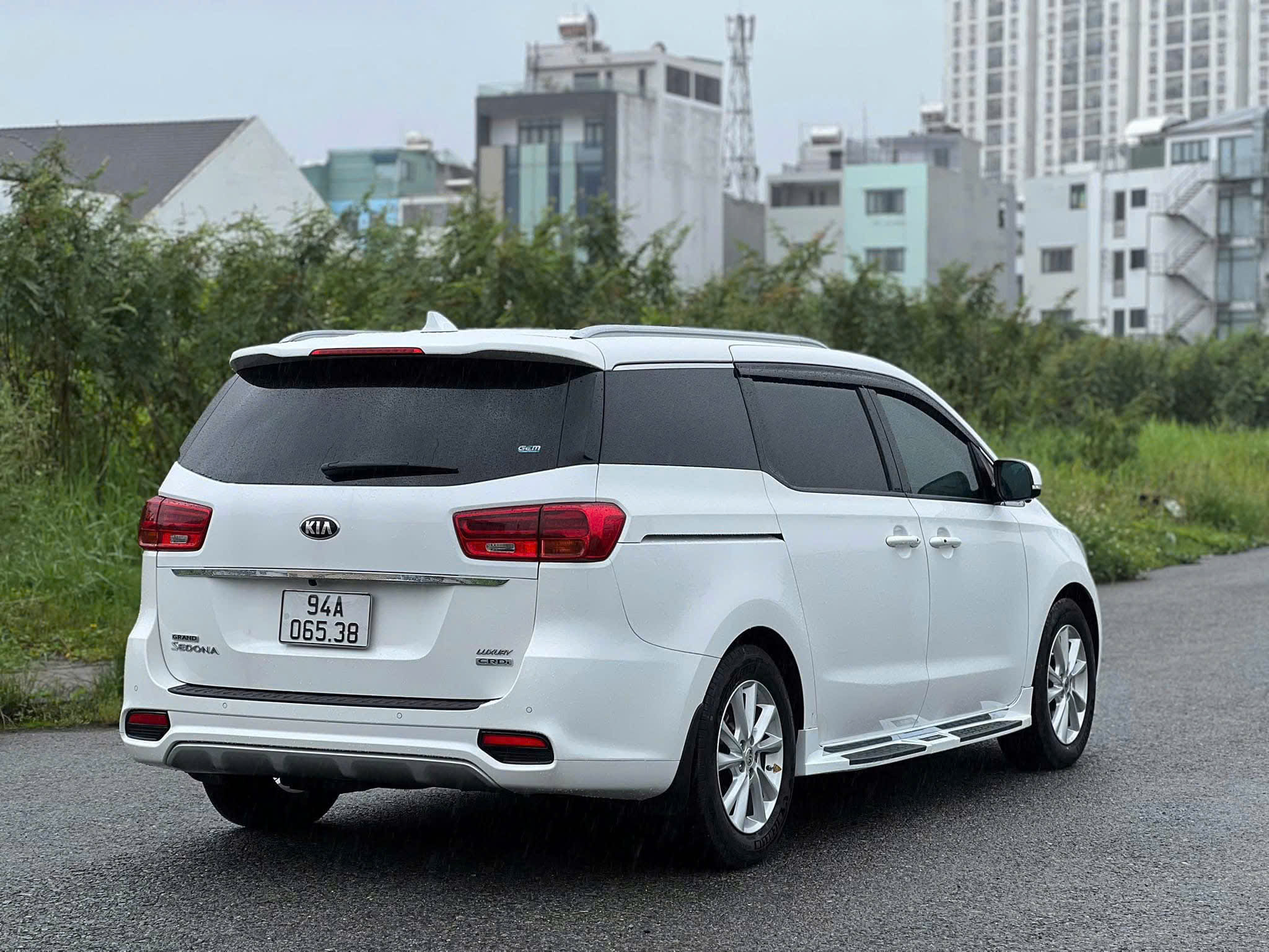Bien-so: (271, 581, 378, 657)
